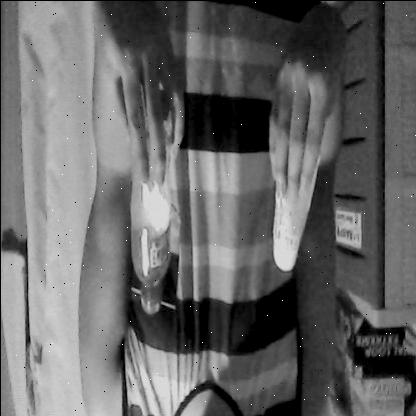Plastic Bottle: (124, 113, 177, 335)
